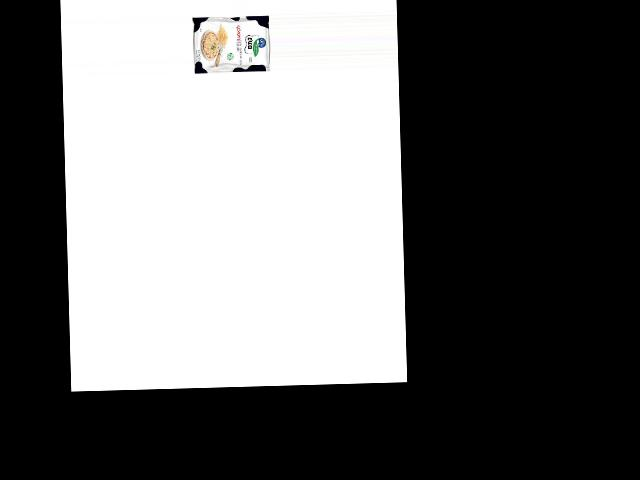cheese: (190, 13, 270, 74)
